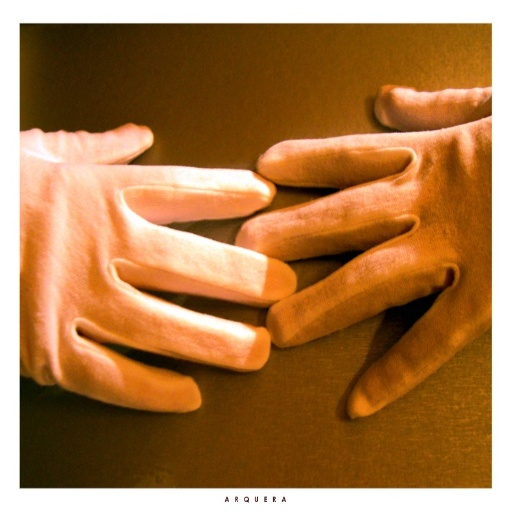hand: (233, 82, 497, 420), (17, 121, 298, 413)
